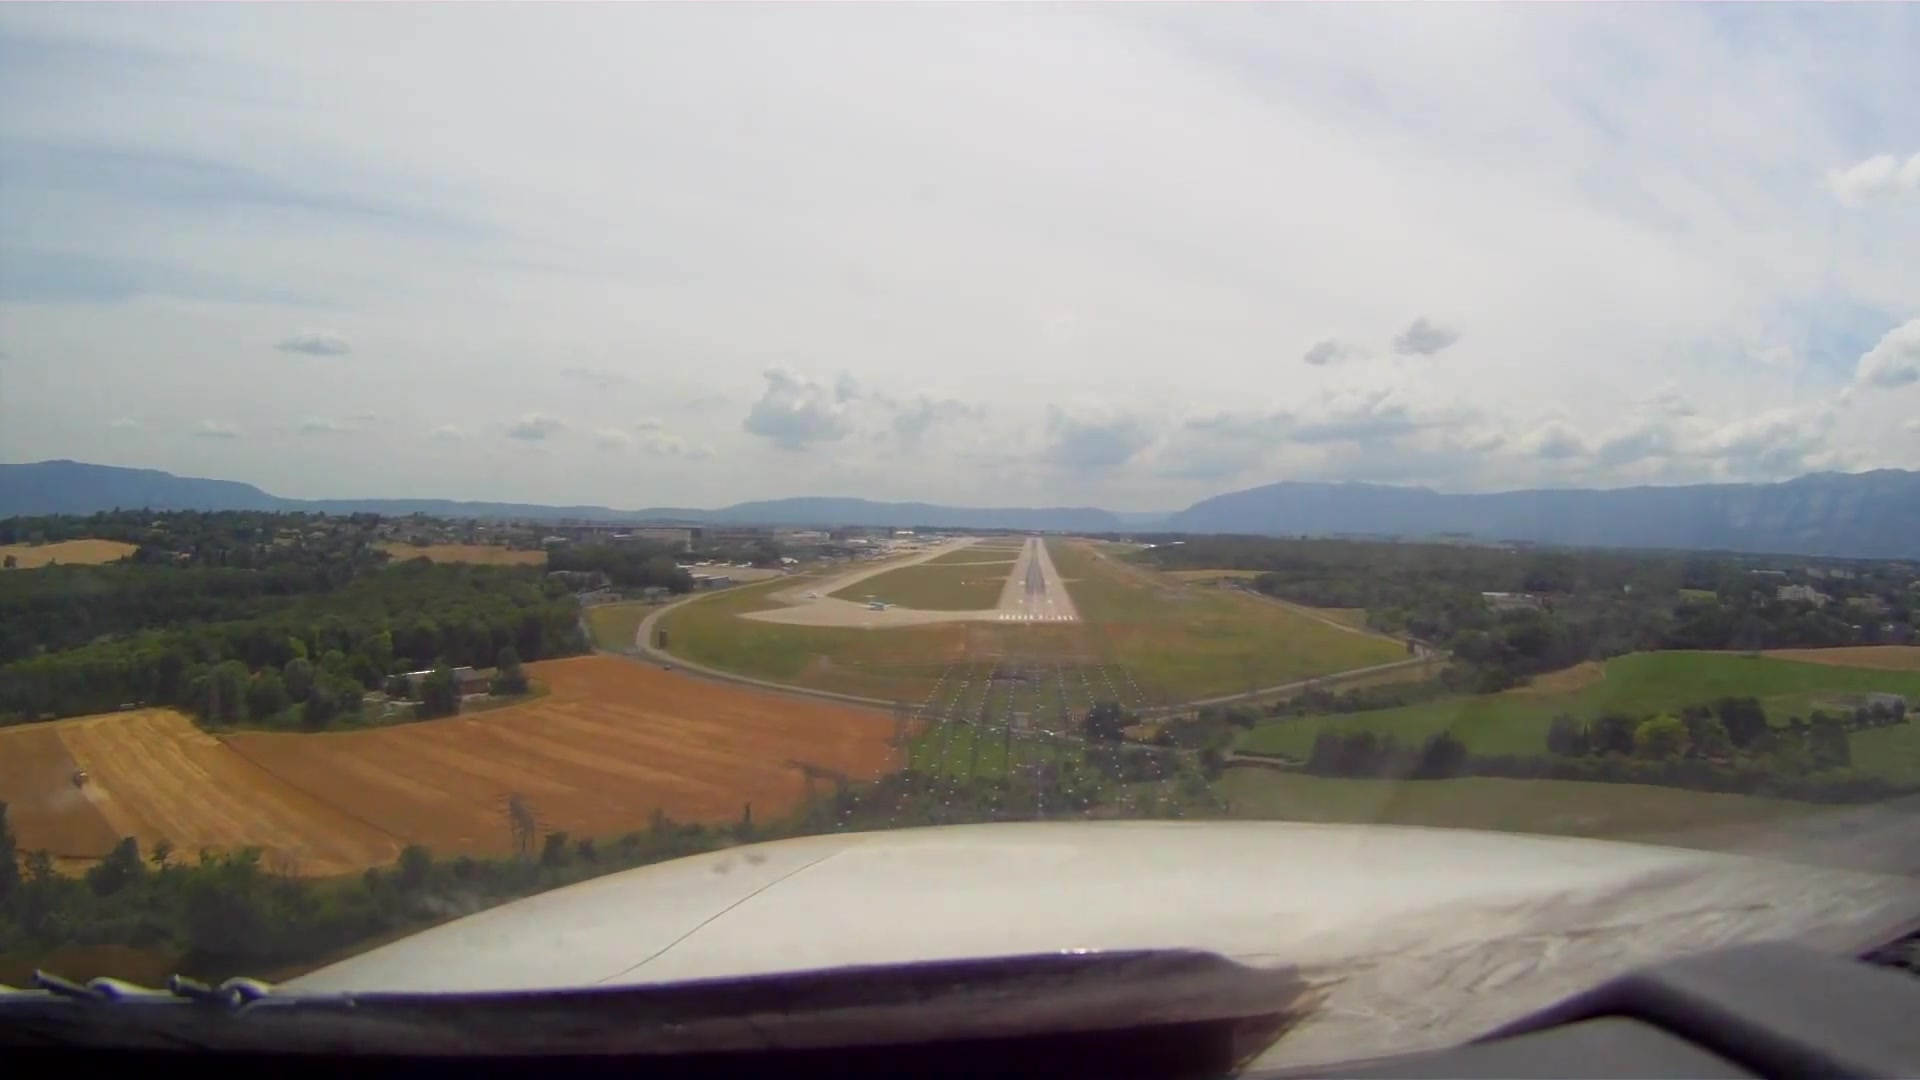entrance: (998, 611, 1075, 622)
runway: (992, 535, 1081, 626)
